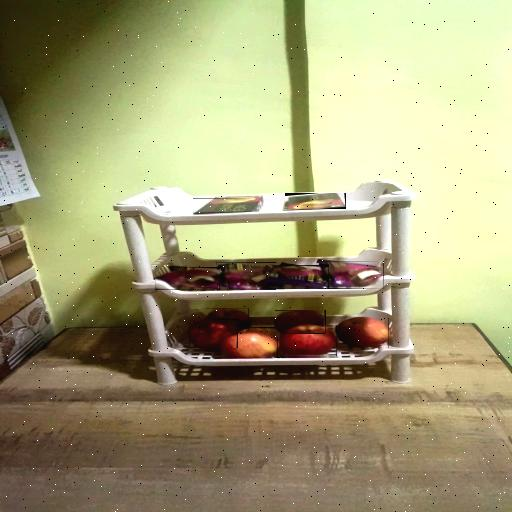Apple: (280, 326, 337, 358), (220, 327, 278, 358), (336, 318, 389, 348), (189, 319, 237, 348), (275, 310, 325, 334), (206, 308, 249, 331)
Choco Fills: (193, 198, 261, 216), (285, 193, 346, 209)
Choco Pie: (319, 261, 384, 289), (216, 262, 276, 290), (266, 265, 329, 289), (155, 267, 220, 290)
